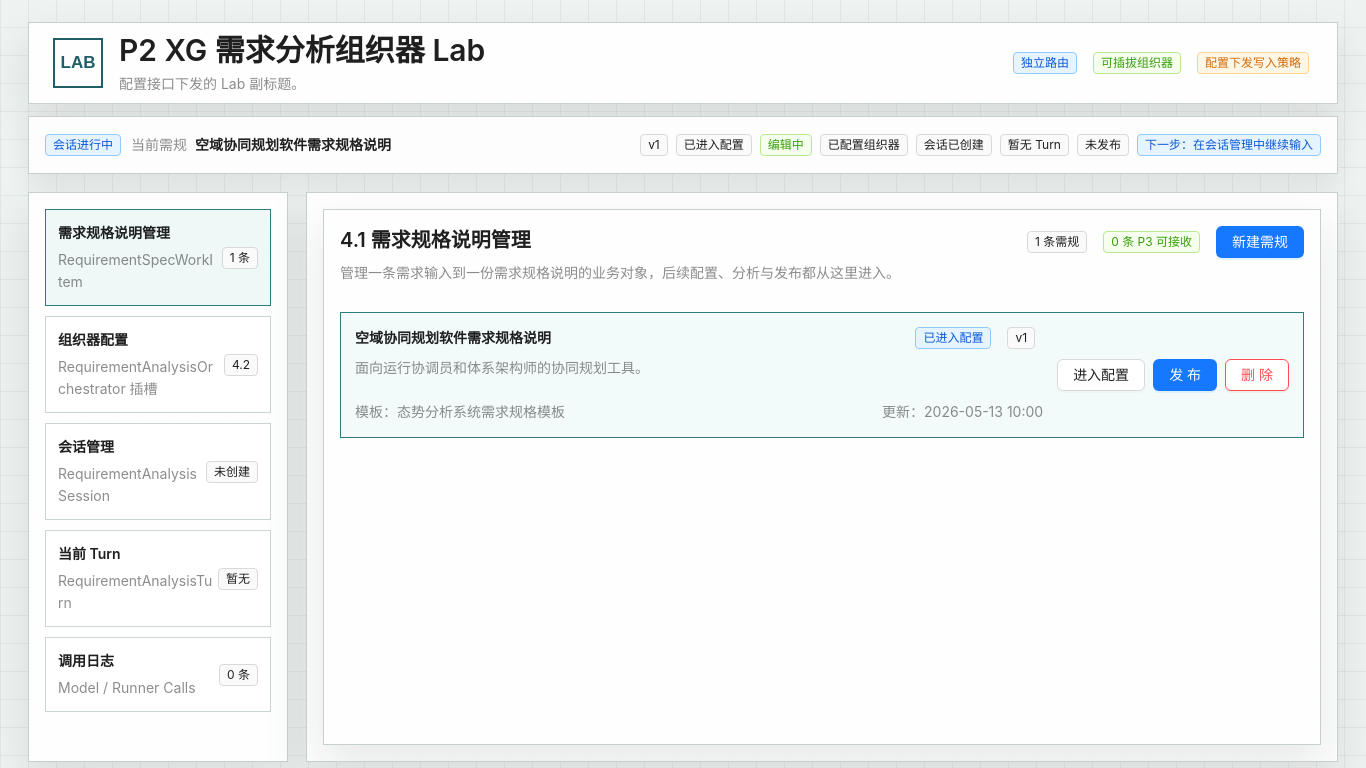
Test: restores a bound analysis session before entering session management
This screenshot has width=1366, height=768.
Expected: the heading "P2 XG 需求分析组织器 Lab" is shown, left=119, top=31, right=485, bottom=69
Click the tab "会话管理 RequirementAnalysisSession 未创建" at (158, 472), box left=45, top=423, right=271, bottom=520
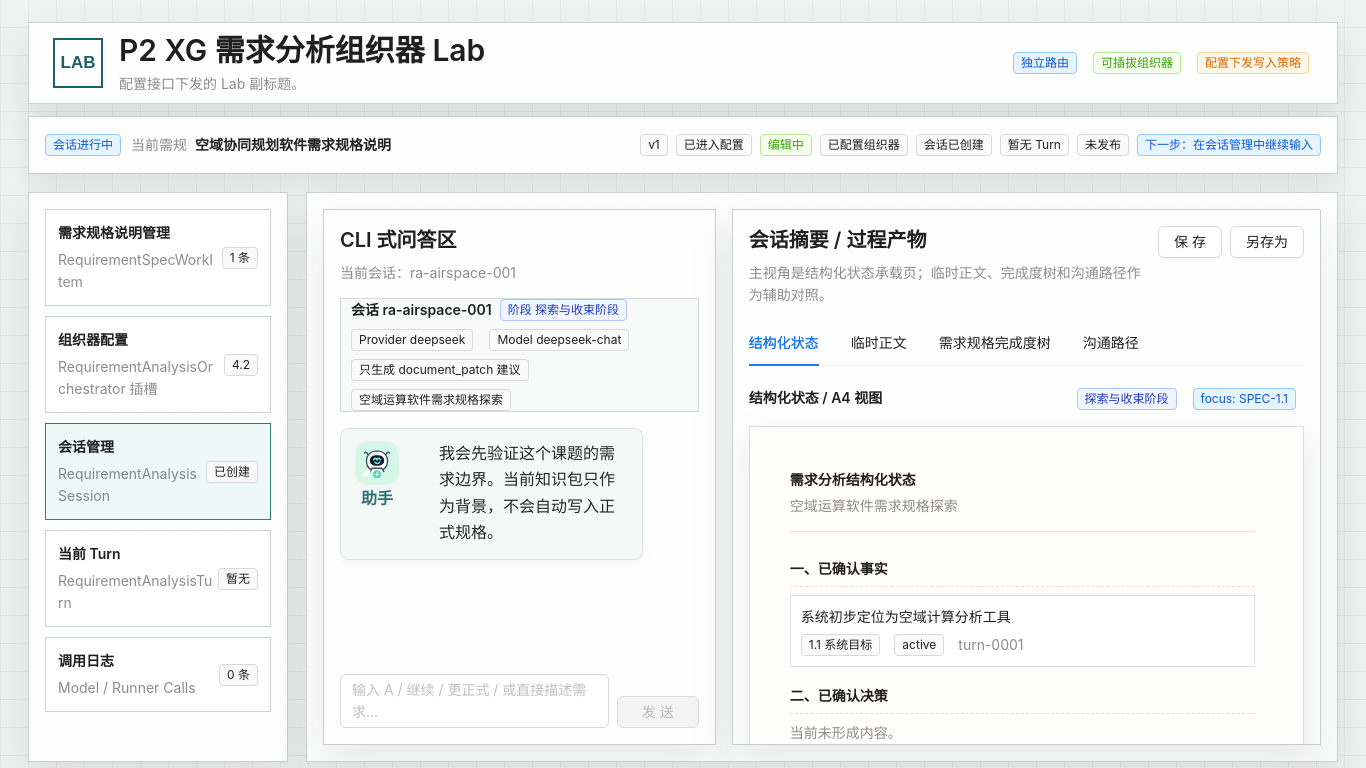
Now the text "会话 ra-airspace-001" is shown, box left=351, top=301, right=492, bottom=318
